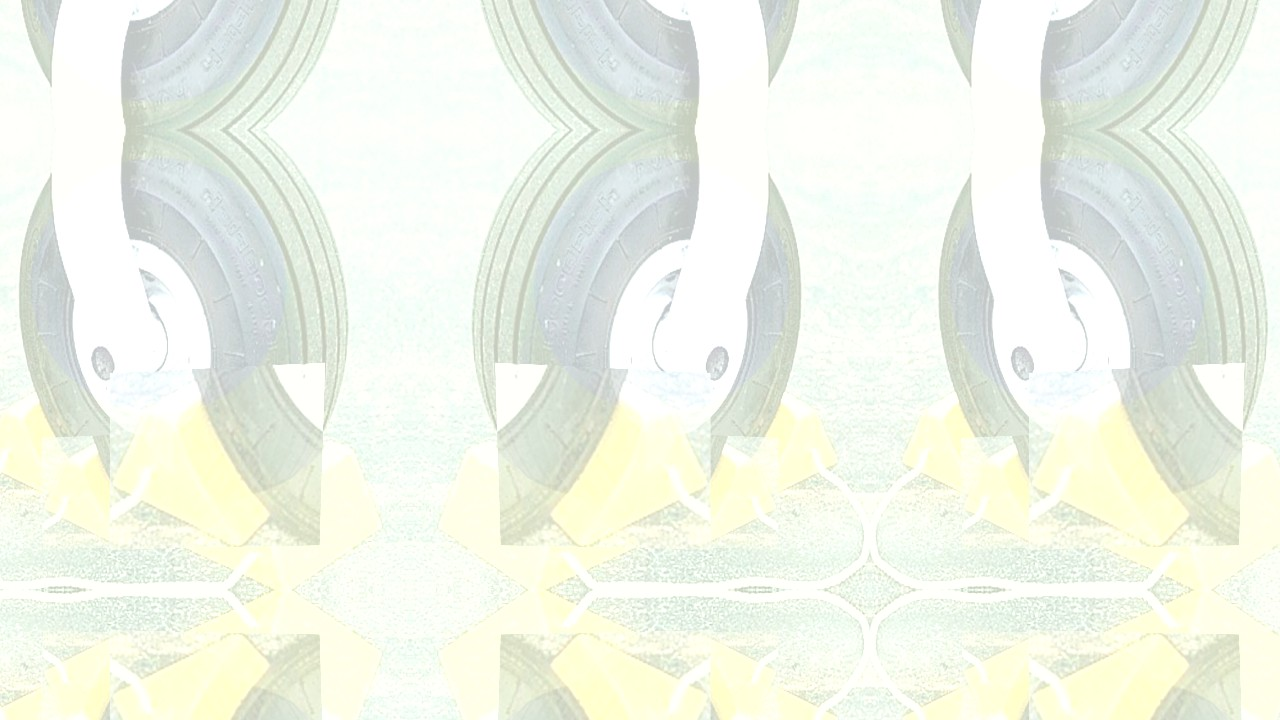chock: (109, 363, 325, 549), (495, 363, 711, 549), (1029, 363, 1245, 549), (181, 440, 386, 590), (434, 440, 639, 590), (1101, 440, 1280, 590), (181, 590, 386, 720), (434, 590, 639, 720), (1101, 590, 1280, 720), (109, 631, 325, 720), (495, 631, 711, 720), (1029, 631, 1245, 720), (700, 380, 841, 506), (899, 380, 1040, 506), (41, 433, 174, 549), (646, 433, 779, 549), (961, 433, 1094, 549), (0, 380, 120, 506), (41, 631, 174, 720), (646, 631, 779, 720), (961, 631, 1094, 720), (700, 674, 841, 720), (899, 674, 1040, 720), (0, 674, 120, 720)
wheel: (13, 130, 358, 538), (462, 130, 807, 538), (933, 130, 1278, 538), (13, 0, 358, 130), (462, 0, 807, 130), (933, 0, 1278, 130), (13, 642, 358, 720), (462, 642, 807, 720), (933, 642, 1278, 720)
